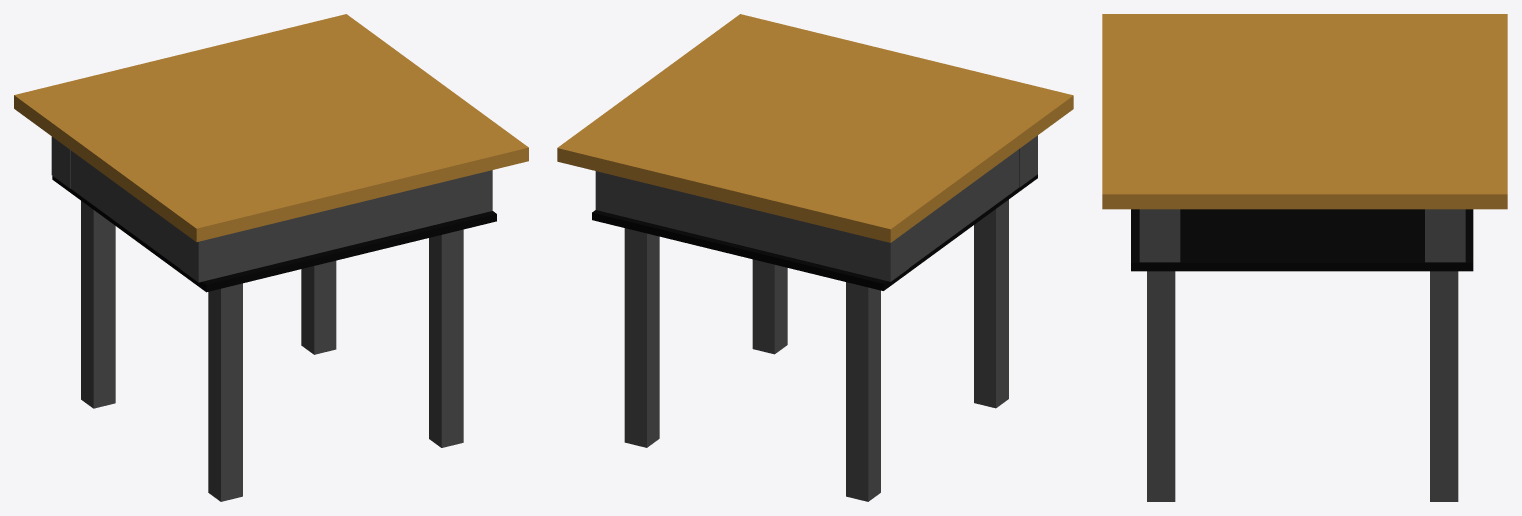
Rendered from desk.fbx.
The picture shows the model from 3 angles, left to right: view 1: azimuth 30°, elevation 25°; view 2: azimuth 150°, elevation 25°; view 3: azimuth 270°, elevation 25°; orthographic projection. The views are drawn at different scales.
Parts seen in each view (by area): view 1: Cube.007, Cube.005, Cube.003, Cube.001, Cube.002, Cube.006, Cube.008, Cube, Cube.004; view 2: Cube.007, Cube.004, Cube, Cube.002, Cube.001, Cube.006, Cube.008, Cube.003, Cube.005; view 3: Cube.007, Cube.008, Cube, Cube.003, Cube.005, Cube.004.
Part boxes in pixels (x1,y1,x2,y2): Cube.007: [14, 14, 528, 242]; Cube.005: [180, 170, 492, 282]; Cube.003: [429, 229, 463, 447]; Cube.001: [208, 283, 242, 501]; Cube.002: [81, 201, 115, 408]; Cube.006: [70, 150, 180, 268]; Cube.008: [52, 176, 496, 292]; Cube: [301, 260, 336, 354]; Cube.004: [51, 136, 70, 188]; Cube.007: [557, 14, 1073, 242]; Cube.004: [595, 171, 908, 281]; Cube: [624, 228, 659, 447]; Cube.002: [846, 282, 880, 501]; Cube.001: [974, 199, 1008, 408]; Cube.006: [909, 149, 1019, 267]; Cube.008: [592, 174, 1037, 290]; Cube.003: [752, 259, 787, 354]; Cube.005: [1019, 135, 1037, 187]; Cube.007: [1102, 14, 1507, 209]; Cube.008: [1131, 209, 1473, 271]; Cube: [1430, 271, 1458, 501]; Cube.003: [1147, 271, 1175, 501]; Cube.005: [1139, 209, 1180, 262]; Cube.004: [1425, 209, 1465, 262].
Size of the model in its own units: 452 by 388 by 430.
